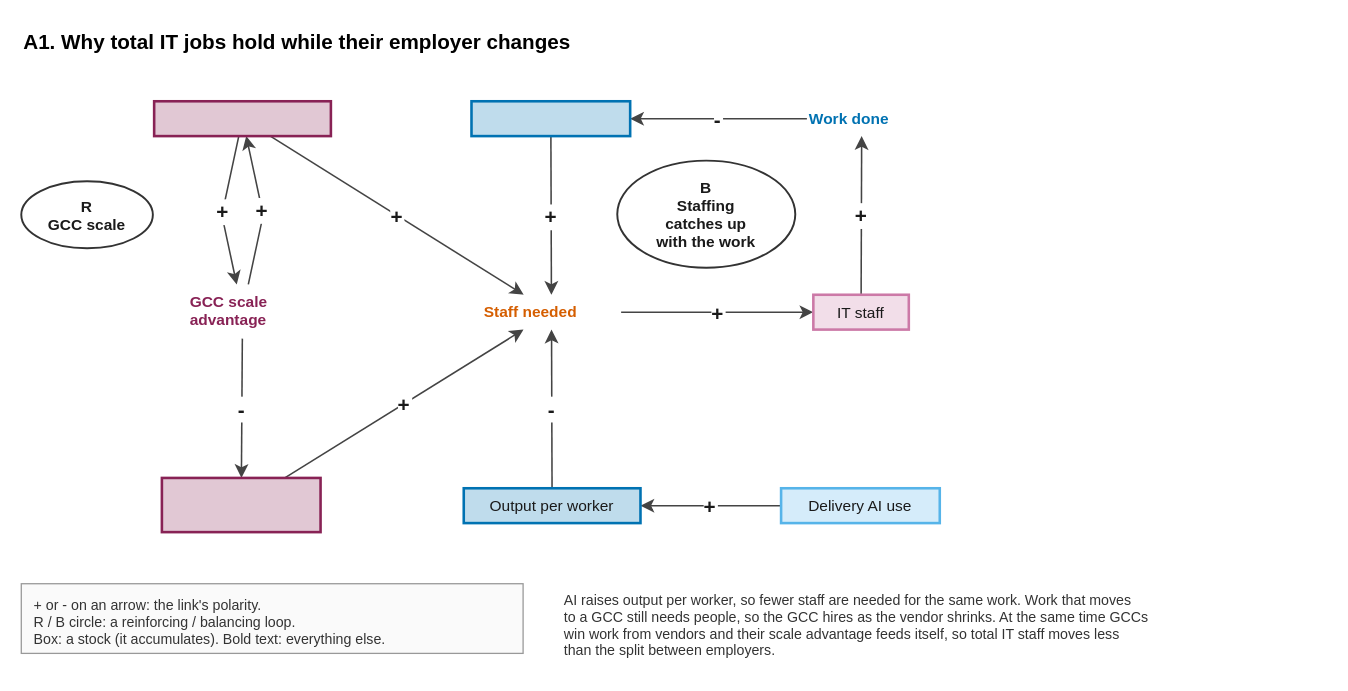
The diagram is 1348 pixels wide and 691 high, and some of its shapes have lost their labels. The shapes that lost their labels are listed below. From the top down, each one's centre as x and y in pixels, then its label:
(x=242, y=118): GCC share of work
(x=550, y=118): IT work waiting
(x=240, y=504): Vendor share of work
